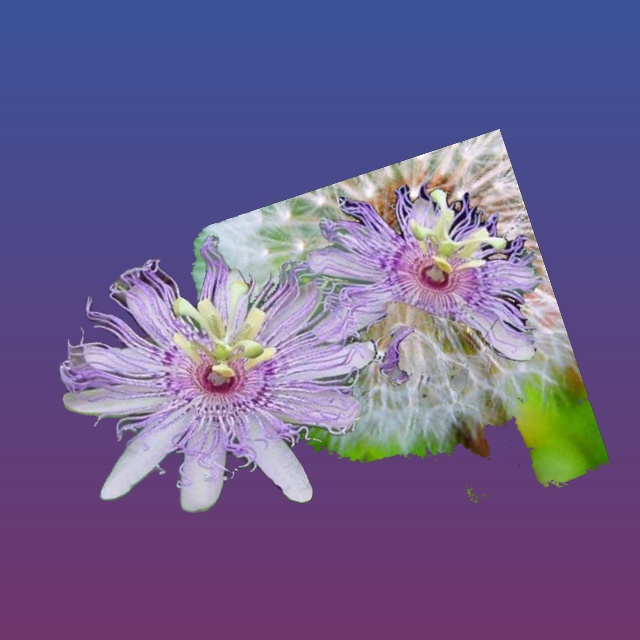butterfly flower: (366, 334, 443, 373)
dandelion: (191, 129, 608, 502)
passion flower: (59, 183, 544, 512)
